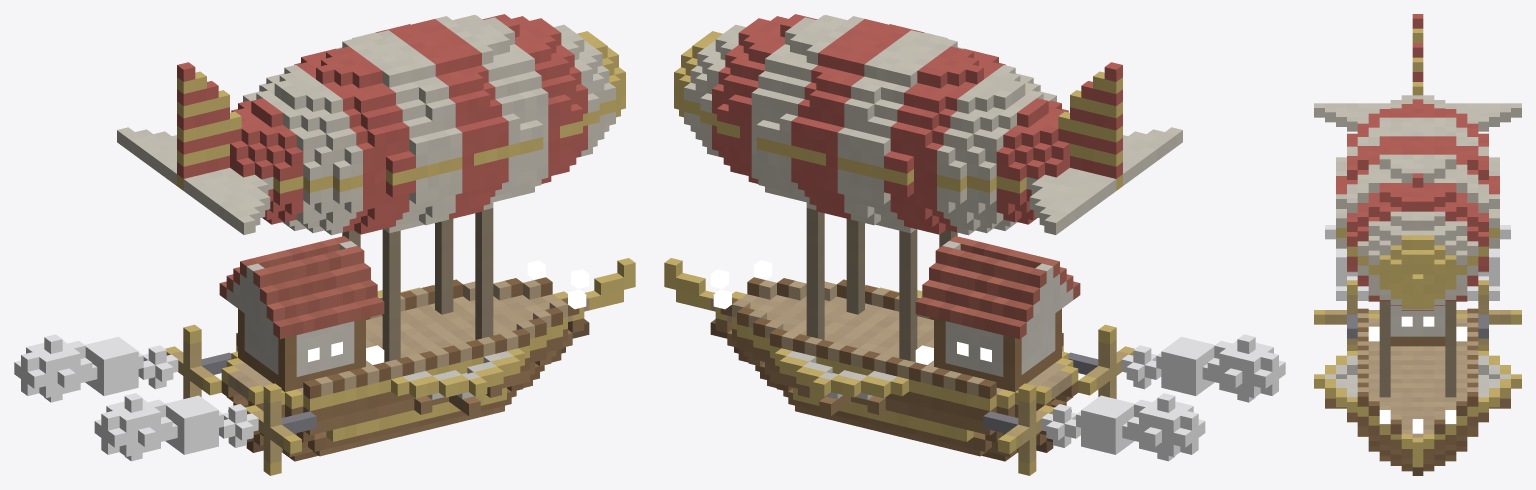
The model's file is ark.glb.
3 renders of one model, left to right at view 1: azimuth 30°, elevation 25°; view 2: azimuth 150°, elevation 25°; view 3: azimuth 270°, elevation 25°, orthographic. The views are drawn at different scales.
Parts seen in each view (by area): view 1: AirshipHull, AirshipExhaust, AirshipLamps; view 2: AirshipHull, AirshipExhaust, AirshipLamps; view 3: AirshipHull, AirshipExhaust, AirshipLamps.
Part boxes in pixels (x1,y1,x2,y2): AirshipHull: (117, 14, 635, 475); AirshipExhaust: (14, 334, 258, 461); AirshipLamps: (308, 260, 589, 364); AirshipHull: (664, 14, 1182, 475); AirshipExhaust: (1041, 334, 1285, 461); AirshipLamps: (710, 260, 991, 364); AirshipHull: (1314, 14, 1521, 475); AirshipExhaust: (1325, 225, 1510, 300); AirshipLamps: (1368, 316, 1467, 433).
Bounding box in the file's own units: 39.2 × 27.2 × 15.2.
